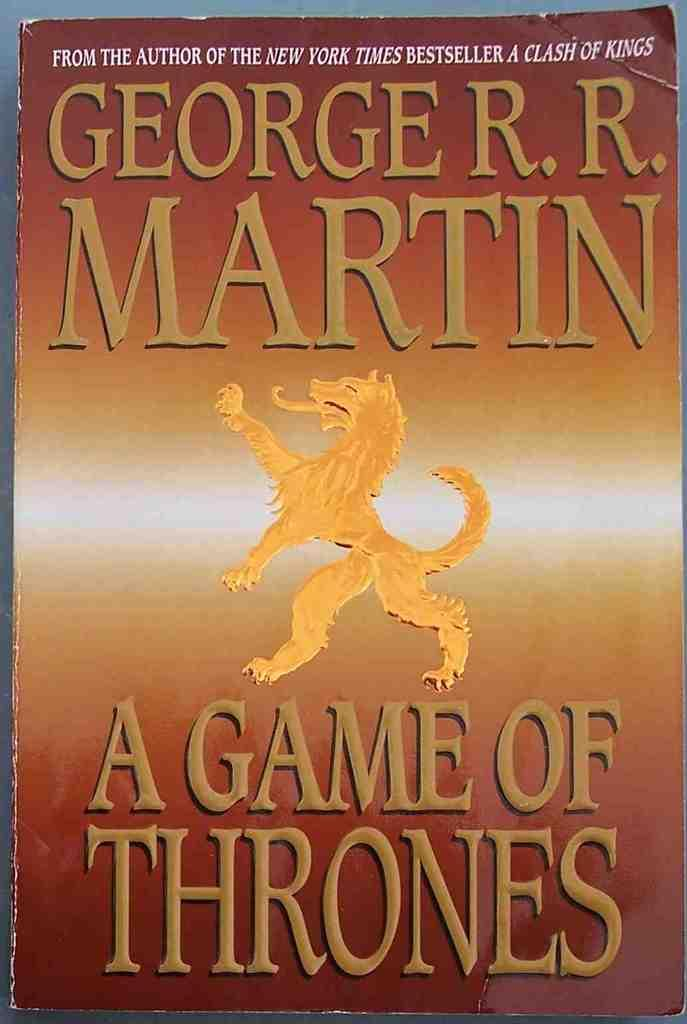book: (3, 3, 686, 1014)
